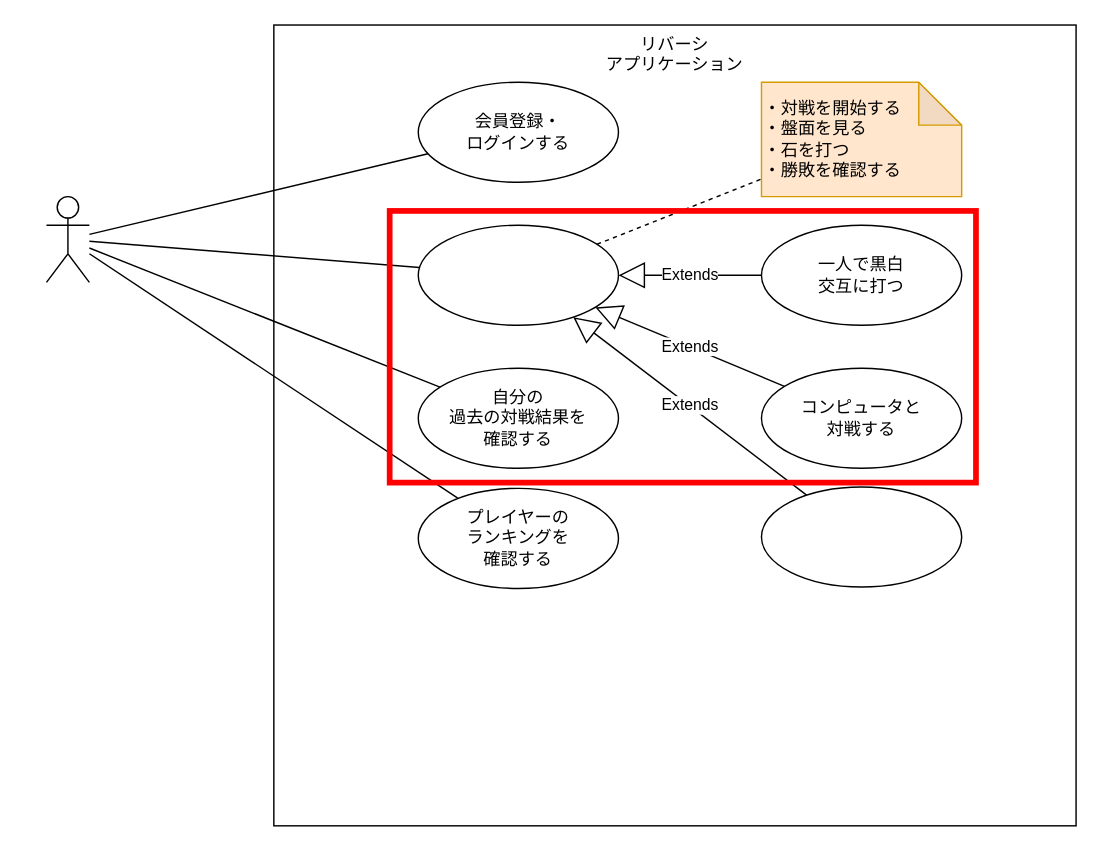
Some shapes in this 1101 by 851 pixel diagram are drawn without their labels. The box of each missing label's shape, as (x1, y1, x2, y2) in pixels:
ほかのプレイヤーと 対戦する: (760, 485, 962, 587)
プレイヤー: (45, 195, 89, 282)
対戦する: (417, 224, 618, 325)
